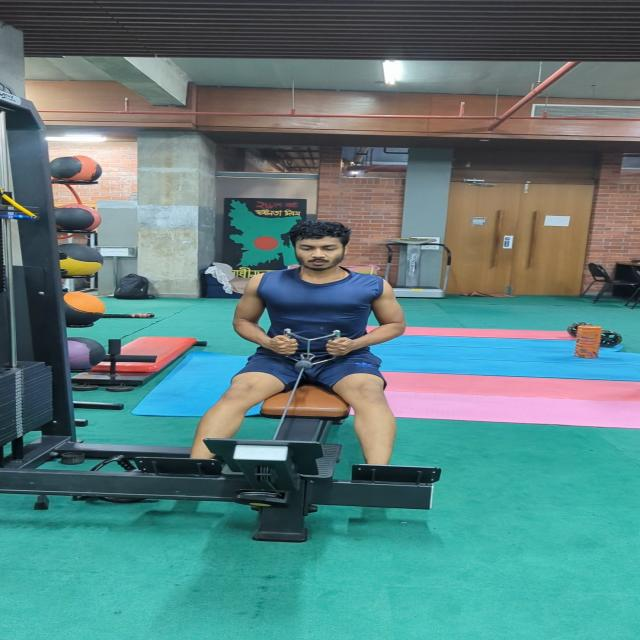Normal_RowingMachineExercise: (185, 220, 408, 466)
